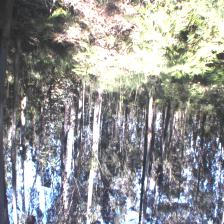trunktrack_idkeyframe: (14, 41, 22, 133)
